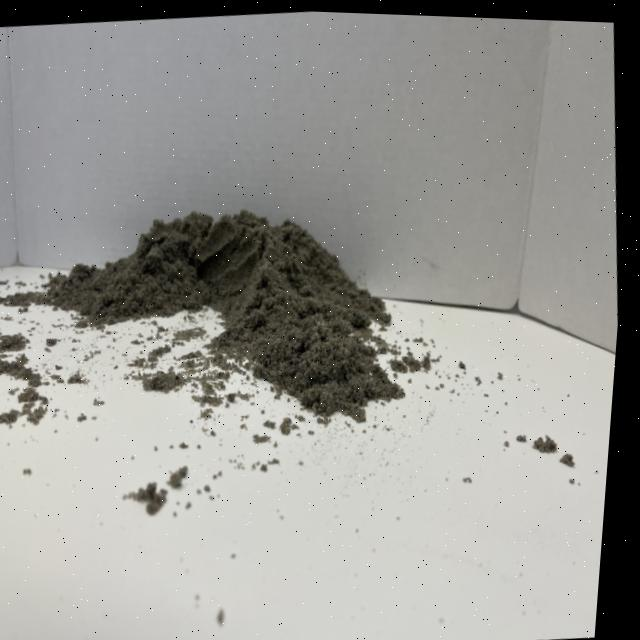sand: (74, 165, 430, 400)
